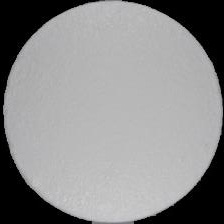63739-269: (0, 0, 224, 224)
